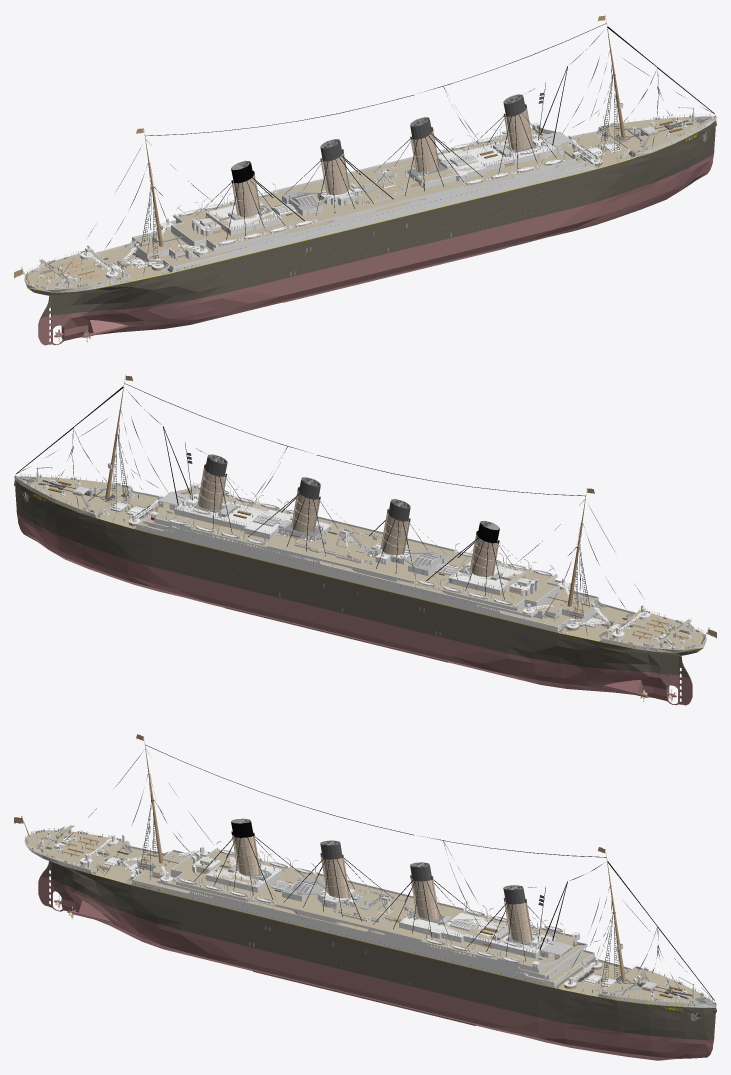
Rendered from titanic.glb.
3 renders of one model, top to bottom at view 1: azimuth 30°, elevation 25°; view 2: azimuth 150°, elevation 25°; view 3: azimuth 330°, elevation 25°, orthographic.
Parts seen in each view (by area): view 1: Metal_Se, FrontCol, _3, _4, Color_10, _Charcoa, Foregrou, Wood__Fl, Color_04, Color_09, Color_12, Color_00; view 2: Metal_Se, FrontCol, _3, _4, Color_10, _Charcoa, Foregrou, Wood__Fl, Color_04, Color_09, Color_12, _2 (+1 smaller); view 3: Metal_Se, FrontCol, _3, _4, Color_10, _Charcoa, Foregrou, Wood__Fl, Color_09, Color_04, Color_12, Color_00.
Part boxes in pixels (x1=…): Metal_Se: x1=28, y1=121, x2=716, y2=317; FrontCol: x1=24, y1=103, x2=716, y2=292; _3: x1=38, y1=154, x2=713, y2=345; _4: x1=24, y1=116, x2=715, y2=289; Color_10: x1=232, y1=108, x2=658, y2=216; _Charcoa: x1=64, y1=23, x2=715, y2=275; Foregrou: x1=65, y1=23, x2=714, y2=270; Wood__Fl: x1=14, y1=15, x2=625, y2=284; Color_04: x1=48, y1=94, x2=713, y2=278; Color_09: x1=67, y1=97, x2=526, y2=276; Color_12: x1=28, y1=120, x2=716, y2=292; Color_00: x1=160, y1=123, x2=632, y2=258; Metal_Se: x1=14, y1=481, x2=702, y2=677; FrontCol: x1=14, y1=462, x2=706, y2=652; _3: x1=17, y1=514, x2=692, y2=705; _4: x1=16, y1=476, x2=706, y2=649; Color_10: x1=72, y1=468, x2=498, y2=576; _Charcoa: x1=15, y1=383, x2=665, y2=635; Foregrou: x1=16, y1=385, x2=666, y2=631; Wood__Fl: x1=105, y1=375, x2=716, y2=644; Color_04: x1=17, y1=454, x2=682, y2=638; Color_09: x1=204, y1=457, x2=663, y2=636; Color_12: x1=14, y1=480, x2=702, y2=652; _2: x1=123, y1=494, x2=675, y2=634; Metal_Se: x1=40, y1=861, x2=716, y2=1040; FrontCol: x1=24, y1=819, x2=716, y2=1007; _3: x1=38, y1=876, x2=713, y2=1060; _4: x1=24, y1=825, x2=715, y2=1003; Color_10: x1=232, y1=835, x2=658, y2=991; _Charcoa: x1=62, y1=744, x2=715, y2=1017; Foregrou: x1=88, y1=749, x2=714, y2=1000; Wood__Fl: x1=14, y1=734, x2=625, y2=982; Color_09: x1=59, y1=839, x2=716, y2=1012; Color_04: x1=47, y1=818, x2=713, y2=1003; Color_12: x1=61, y1=865, x2=715, y2=1011; Color_00: x1=149, y1=869, x2=579, y2=963.
Bounding box in the file's own units: 409 × 110 × 46.25.
